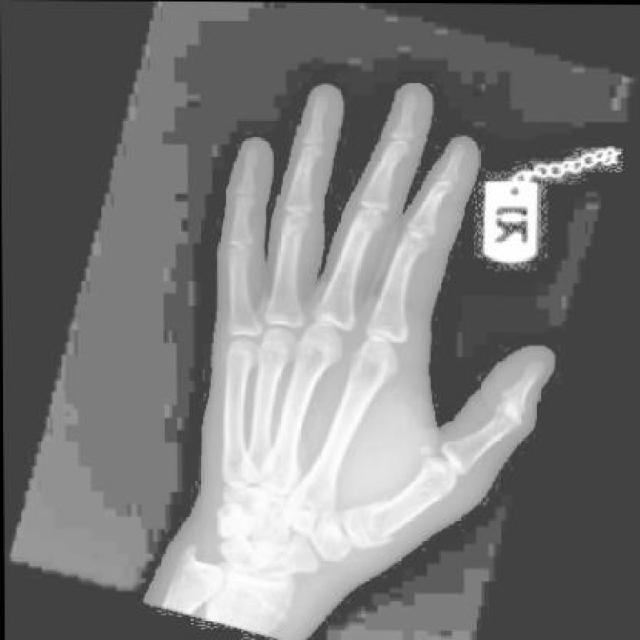Fracture: (341, 494, 404, 562)
